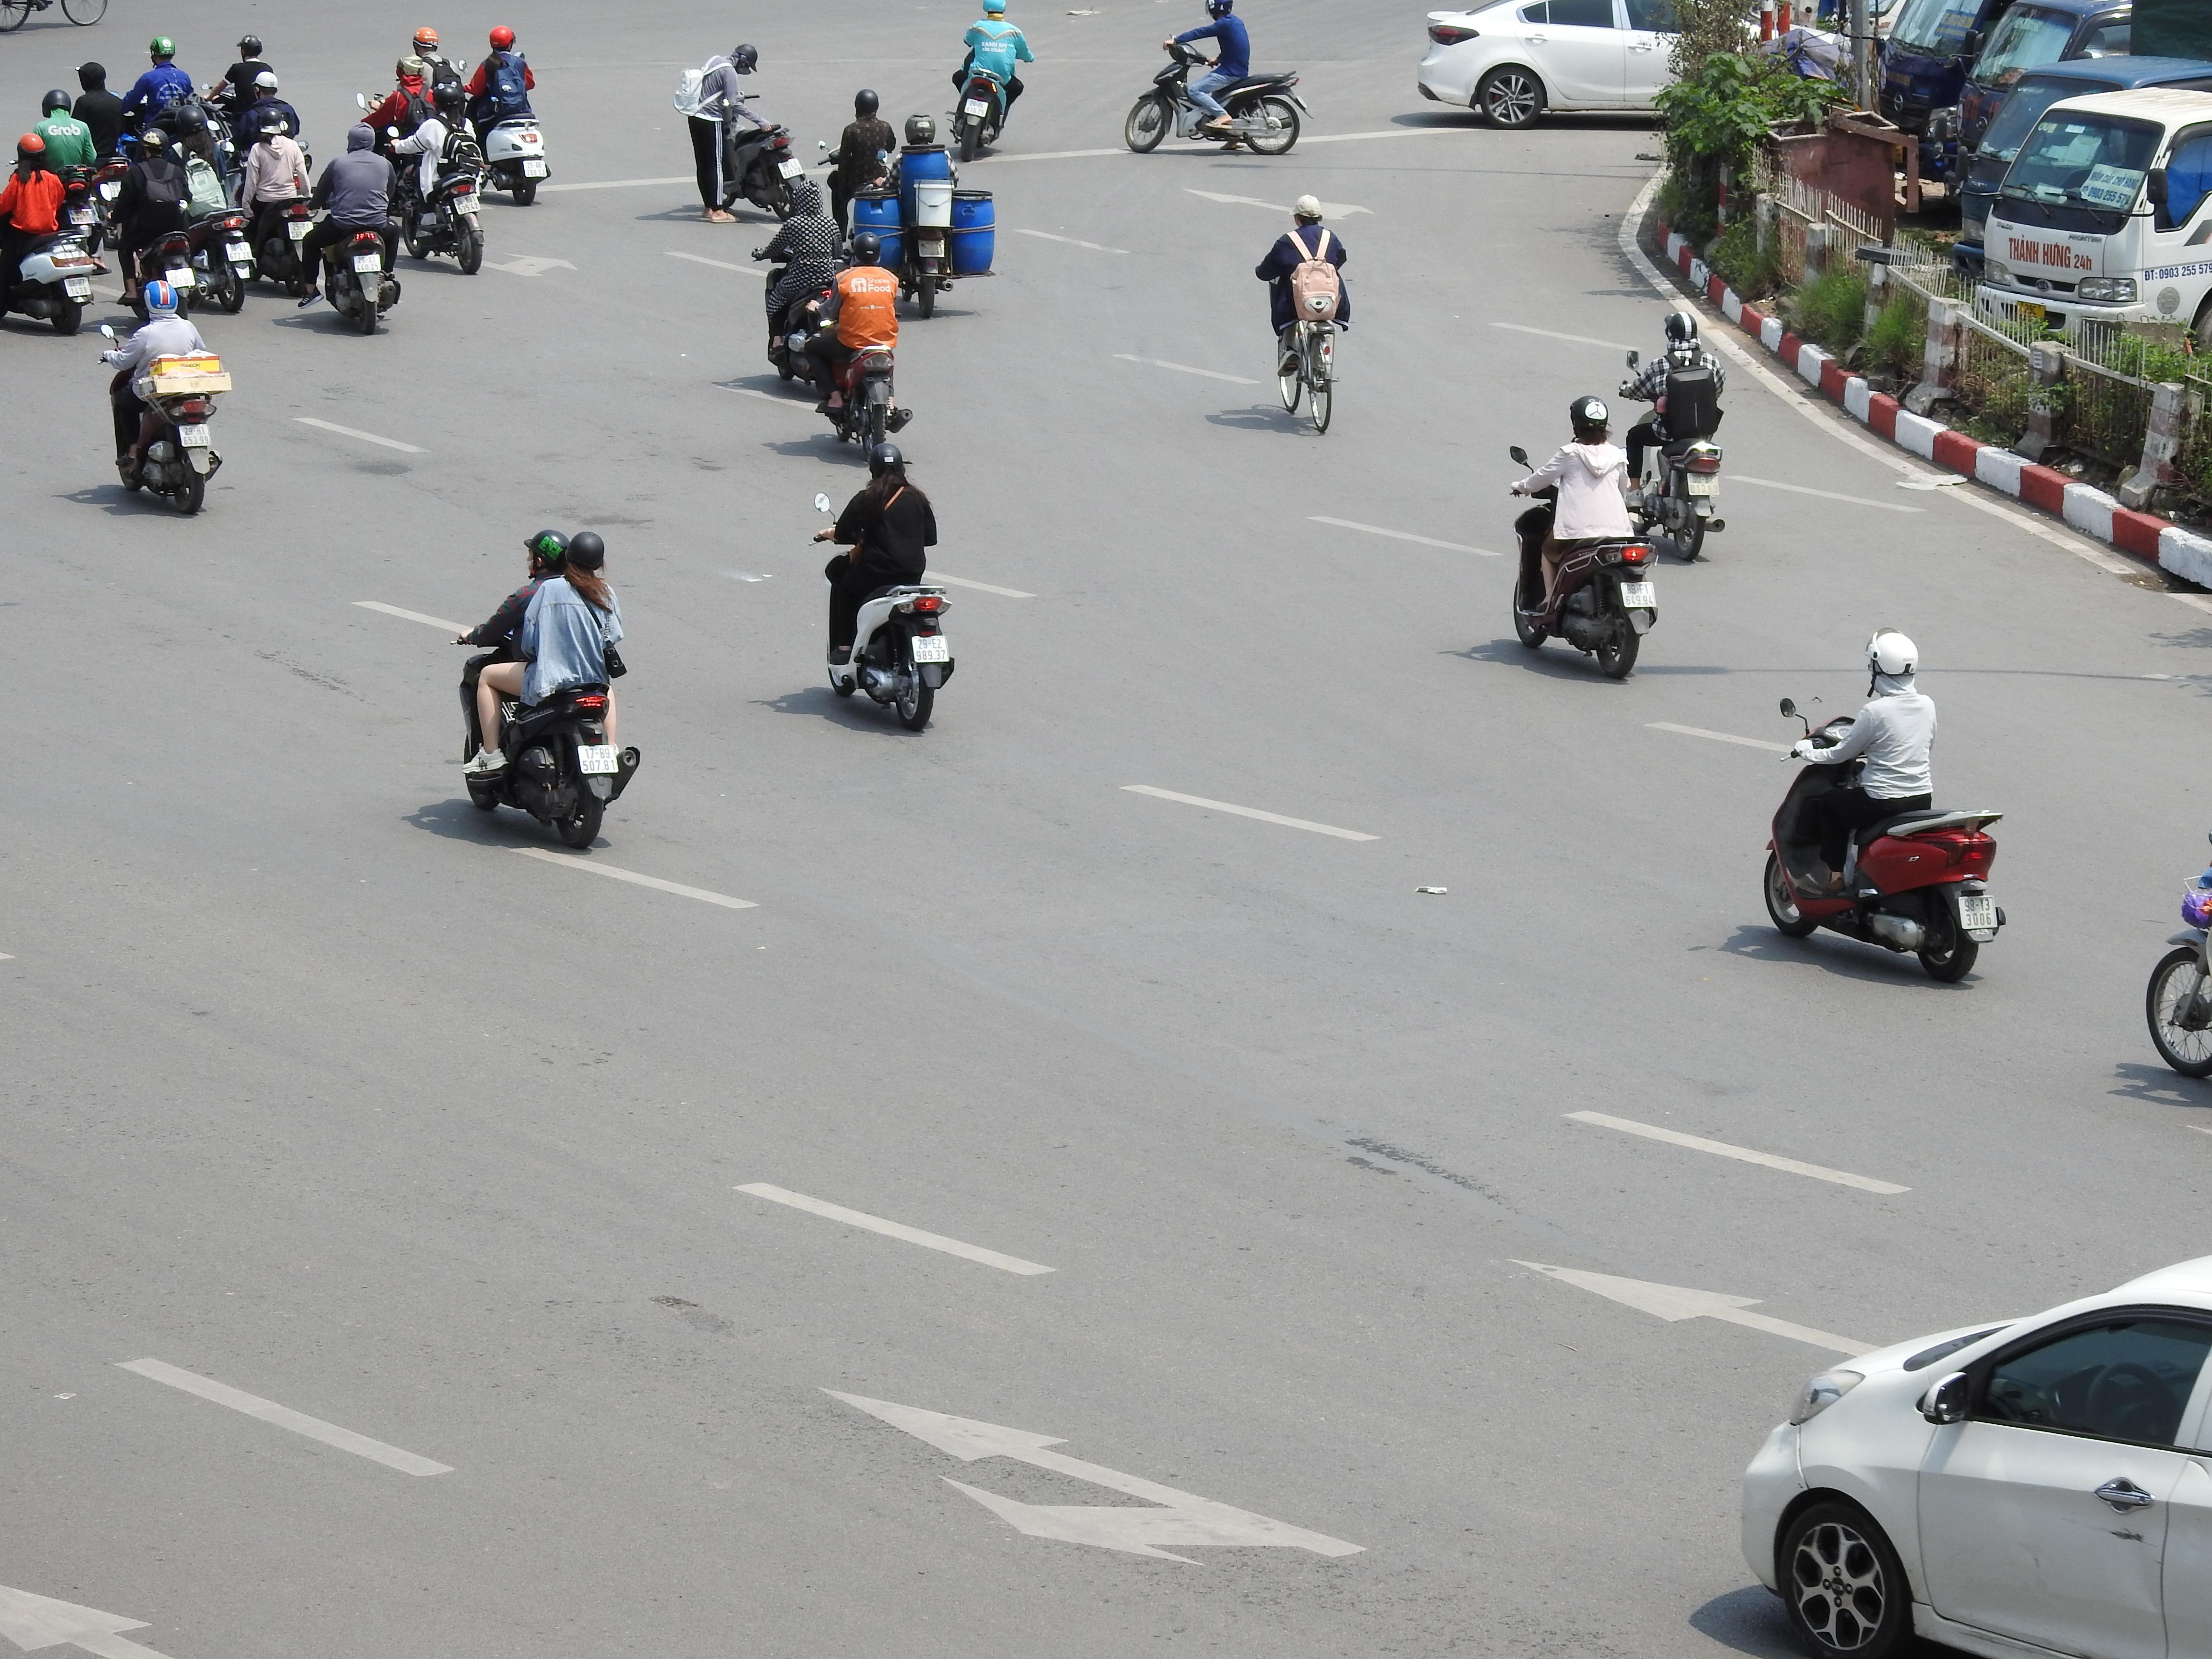BSV: (1958, 894, 1998, 932), (577, 746, 618, 777), (909, 634, 949, 664), (1618, 580, 1658, 608), (178, 423, 212, 448), (1686, 472, 1721, 495), (165, 268, 197, 288), (64, 277, 92, 298), (453, 193, 481, 214), (352, 253, 381, 272), (779, 159, 805, 179), (225, 242, 253, 261), (965, 98, 989, 117), (287, 221, 314, 239), (524, 160, 547, 176)
car: (1735, 1246, 2212, 1659), (1414, 0, 1683, 131)
motorbike: (1761, 631, 2005, 985), (455, 526, 637, 852), (1508, 392, 1660, 683), (815, 439, 954, 734), (101, 274, 228, 519), (1123, 0, 1308, 155), (1620, 312, 1726, 563), (113, 120, 249, 315), (674, 44, 808, 225), (873, 113, 989, 317), (298, 118, 402, 335), (1258, 195, 1350, 434), (812, 234, 909, 453), (0, 132, 105, 335), (754, 176, 846, 387), (397, 87, 488, 275), (465, 24, 550, 206), (239, 105, 314, 291), (30, 89, 108, 263), (820, 87, 900, 249), (949, 0, 1029, 160), (70, 58, 136, 244), (122, 35, 204, 160)
